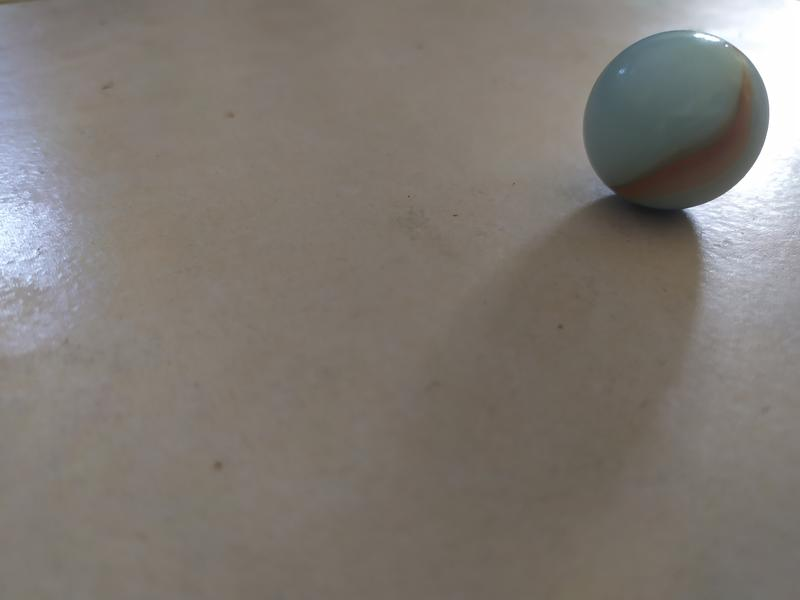Warning: (577, 25, 775, 214)
